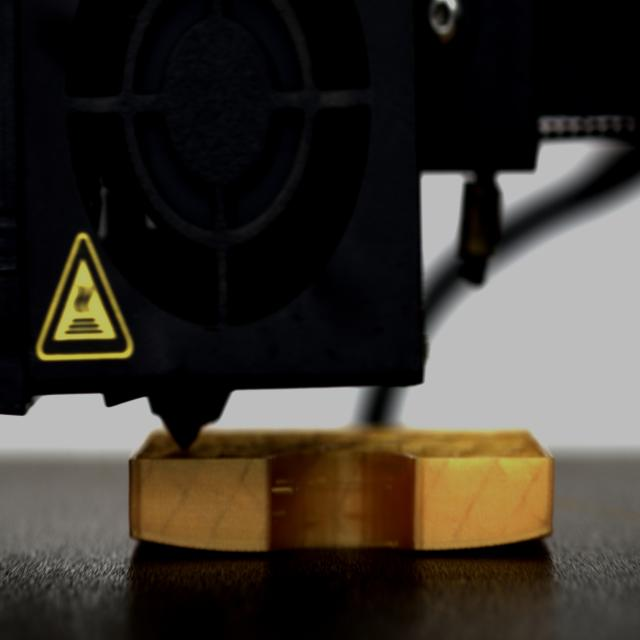Warping: (125, 525, 203, 560), (477, 522, 554, 553)
